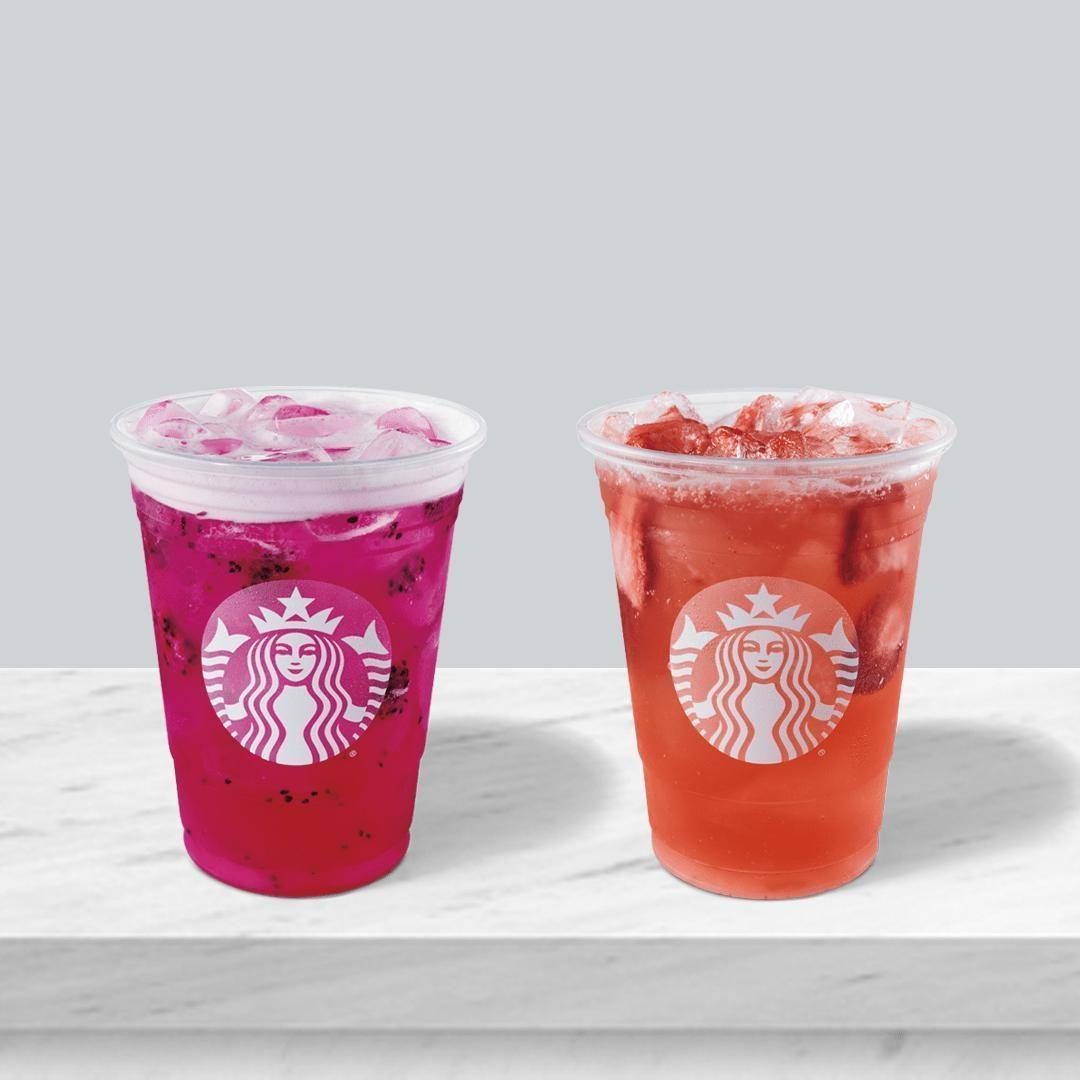cup-disposable: (575, 384, 959, 902), (106, 383, 490, 899)
